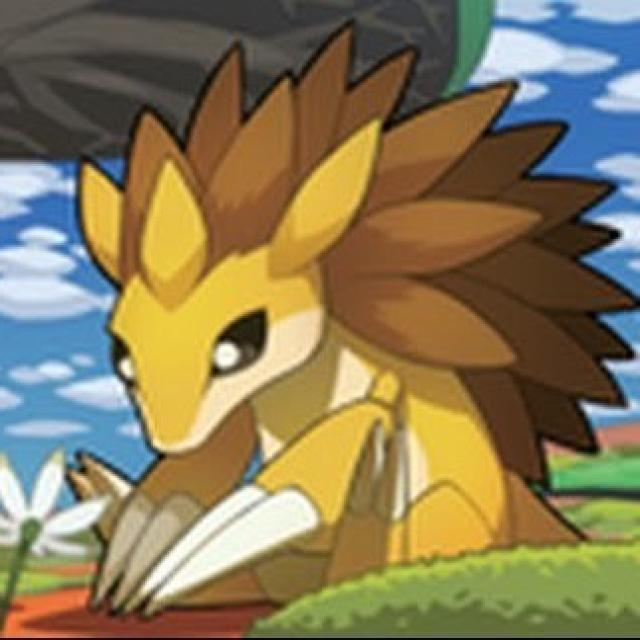Sandslash: (91, 54, 533, 608)
